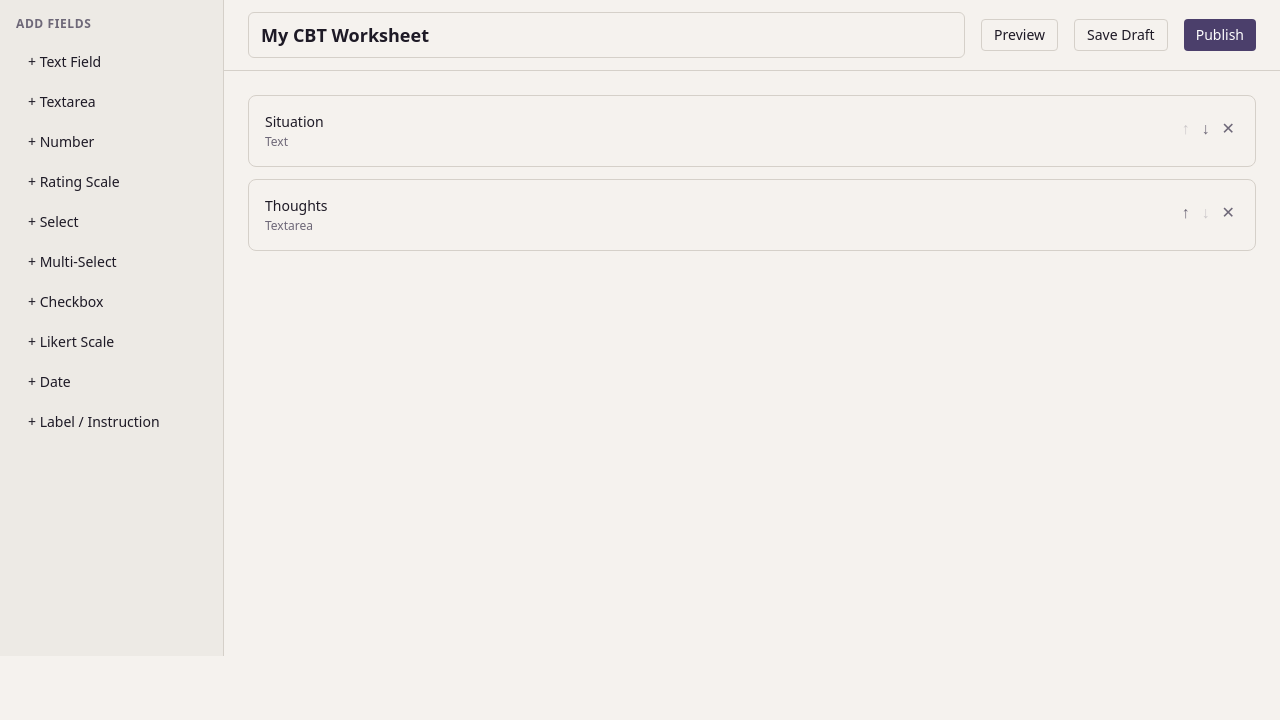
Worksheet builder page › clicking a field type adds it to the canvas
The width and height of the screenshot is (1280, 720).
What coordinates should you click on to do the following:
click the button with aria-label "add text field"
I would click on:
 (112, 62)
Its box is [16,44,207,80].
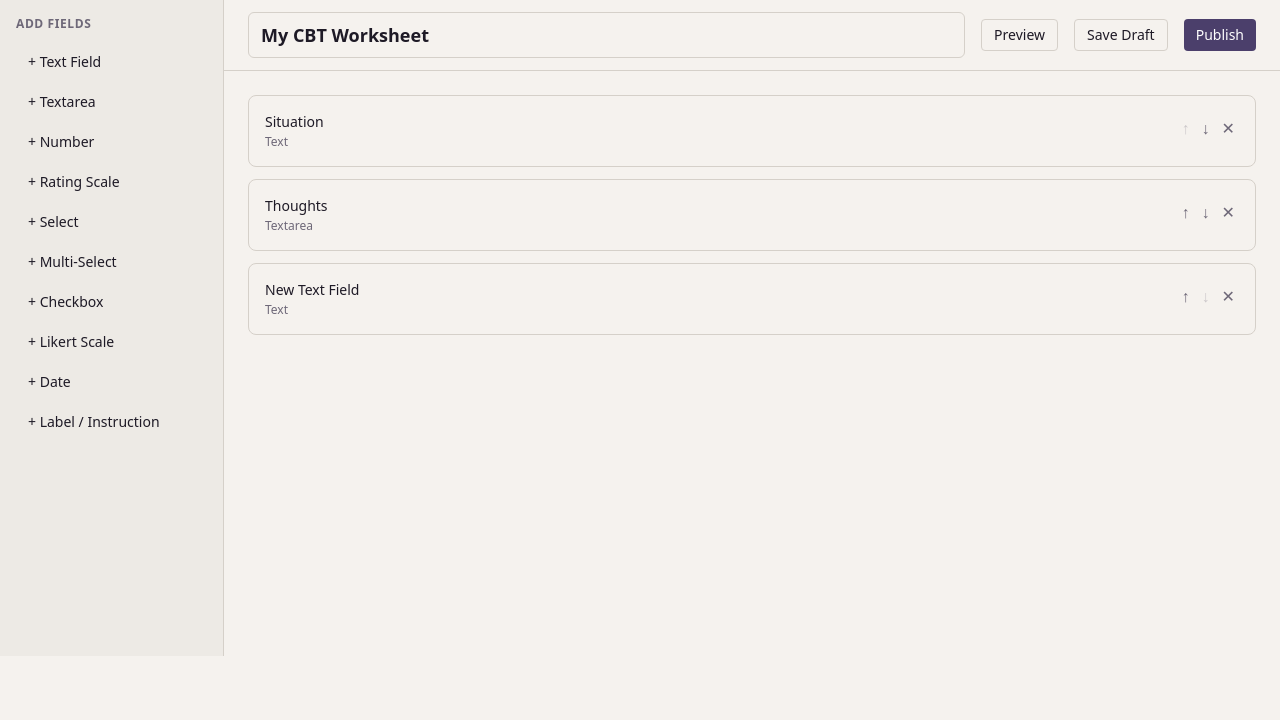
Check: the heading "New Text Field" is shown, box [265,280,359,299]
